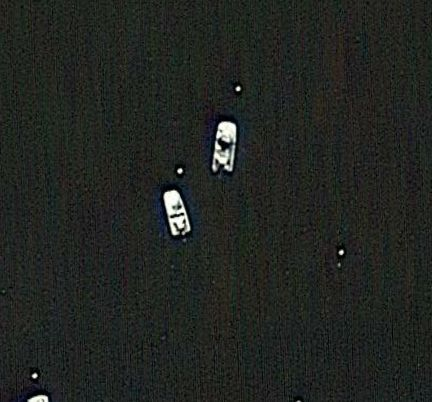boat: (159, 187, 194, 240), (210, 118, 239, 176)
